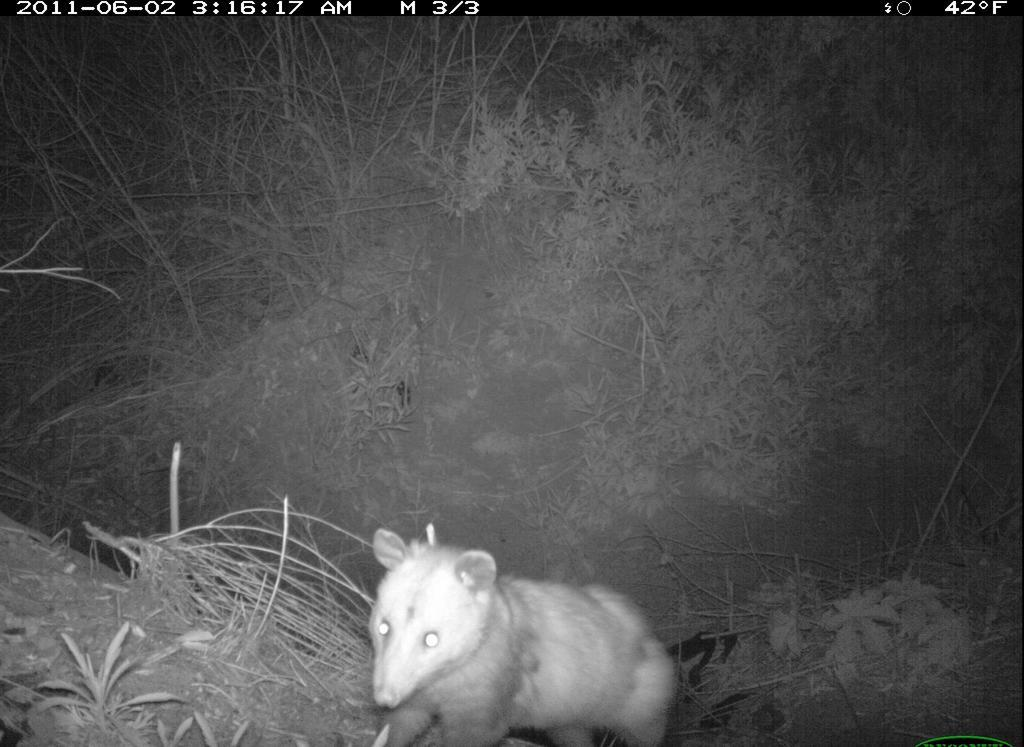opossum: (305, 515, 724, 747)
